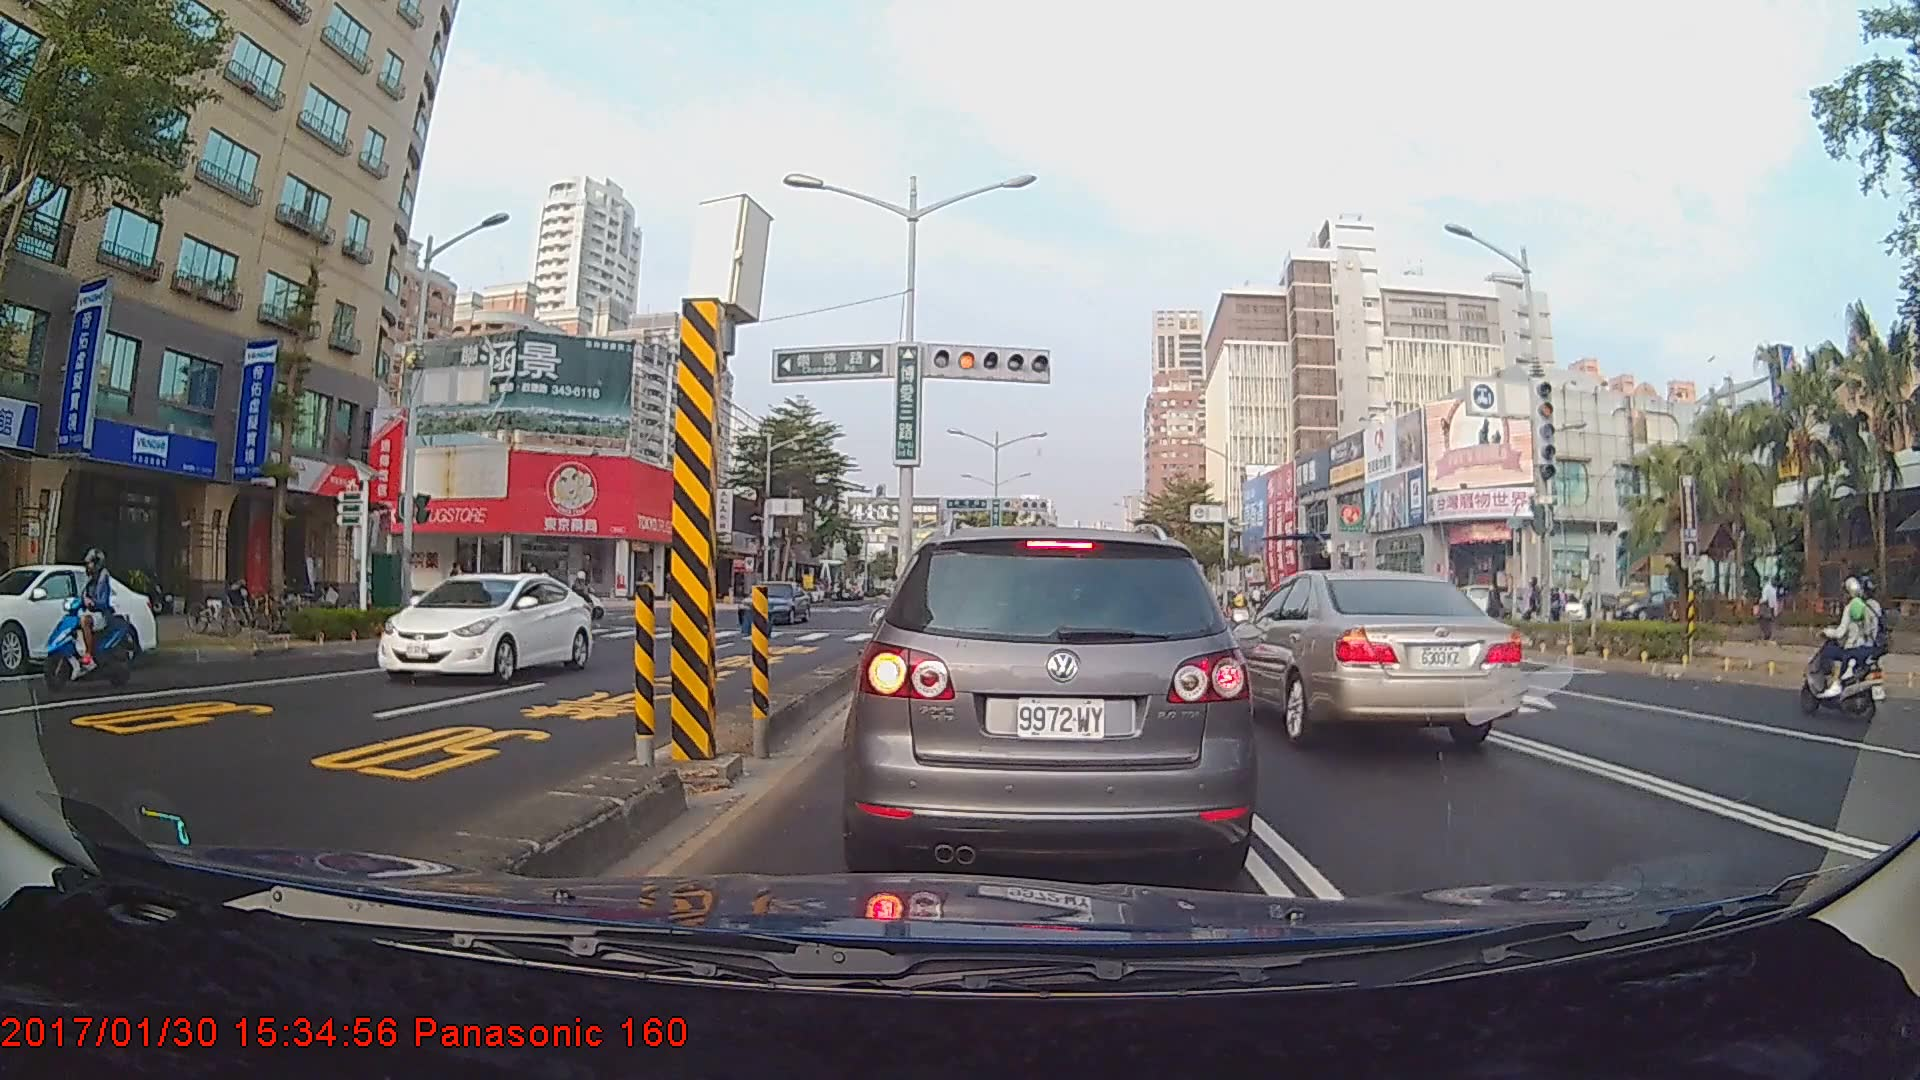pedestrian: (1755, 574, 1781, 647), (1484, 579, 1508, 637), (448, 558, 468, 621)
rider: (39, 549, 136, 693), (1795, 570, 1884, 719)
vehicle: (850, 523, 1248, 882), (1224, 566, 1524, 748), (375, 568, 589, 684), (0, 561, 176, 671), (735, 580, 810, 625)
